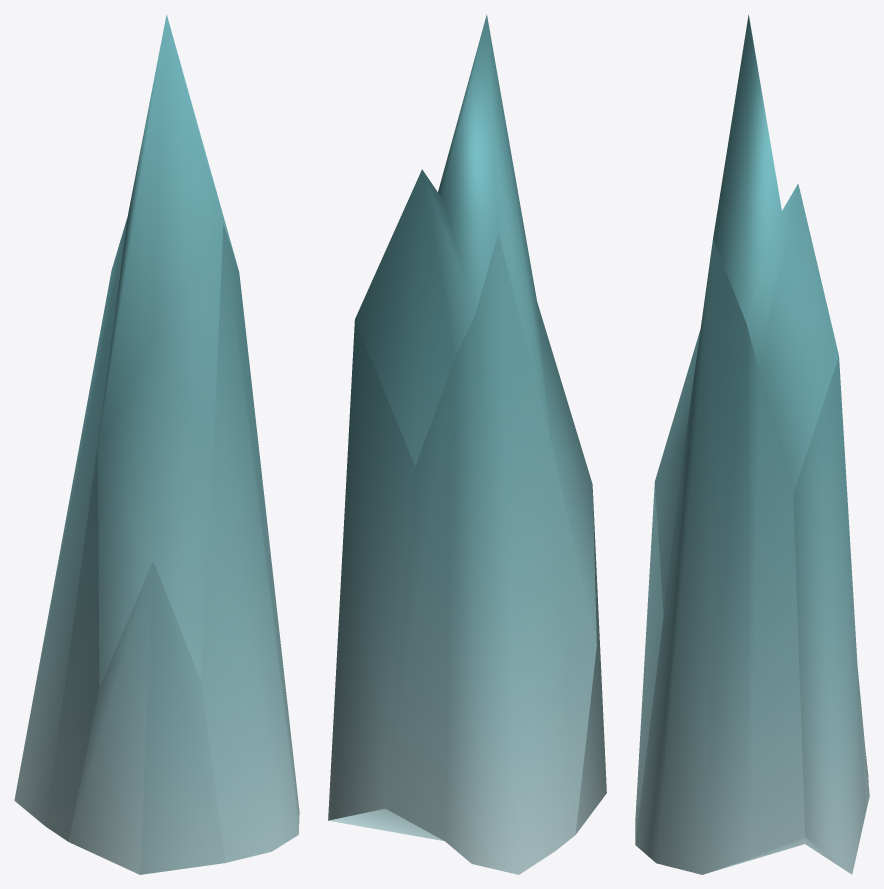
Rendered from Ice_V4_paint.fbx.
3 renders of one model, left to right at view 1: azimuth 30°, elevation 25°; view 2: azimuth 150°, elevation 25°; view 3: azimuth 270°, elevation 25°, orthographic.
Parts seen in each view (by area): view 1: V4; view 2: V4; view 3: V4.
Boxes of the visible parts, x1,y1,x2,y2 form: V4: (14,15,299,874); V4: (328,14,606,874); V4: (635,15,869,874).
Size of the model in its own units: 0.482 by 1.8 by 0.4737.
